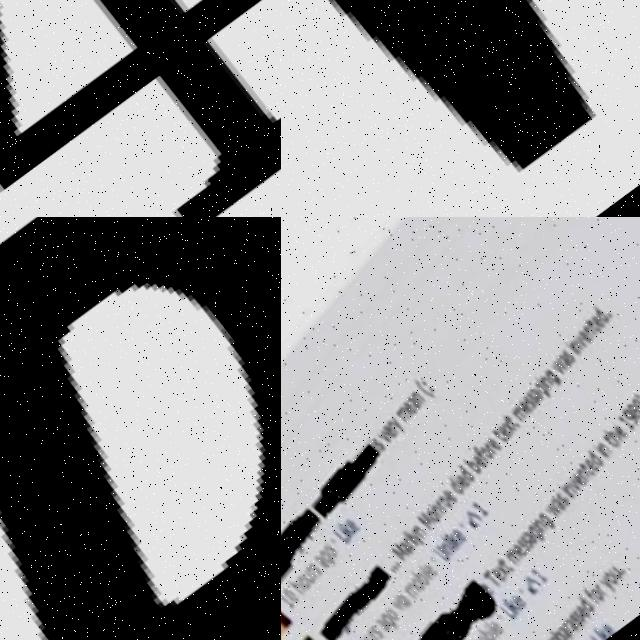0: (617, 393, 640, 417), (281, 582, 287, 607)
1: (455, 497, 478, 521), (604, 412, 625, 434), (513, 566, 534, 588)
8: (613, 399, 636, 423)
9: (608, 404, 631, 429)
D: (0, 217, 281, 640)
V: (281, 0, 640, 217)
